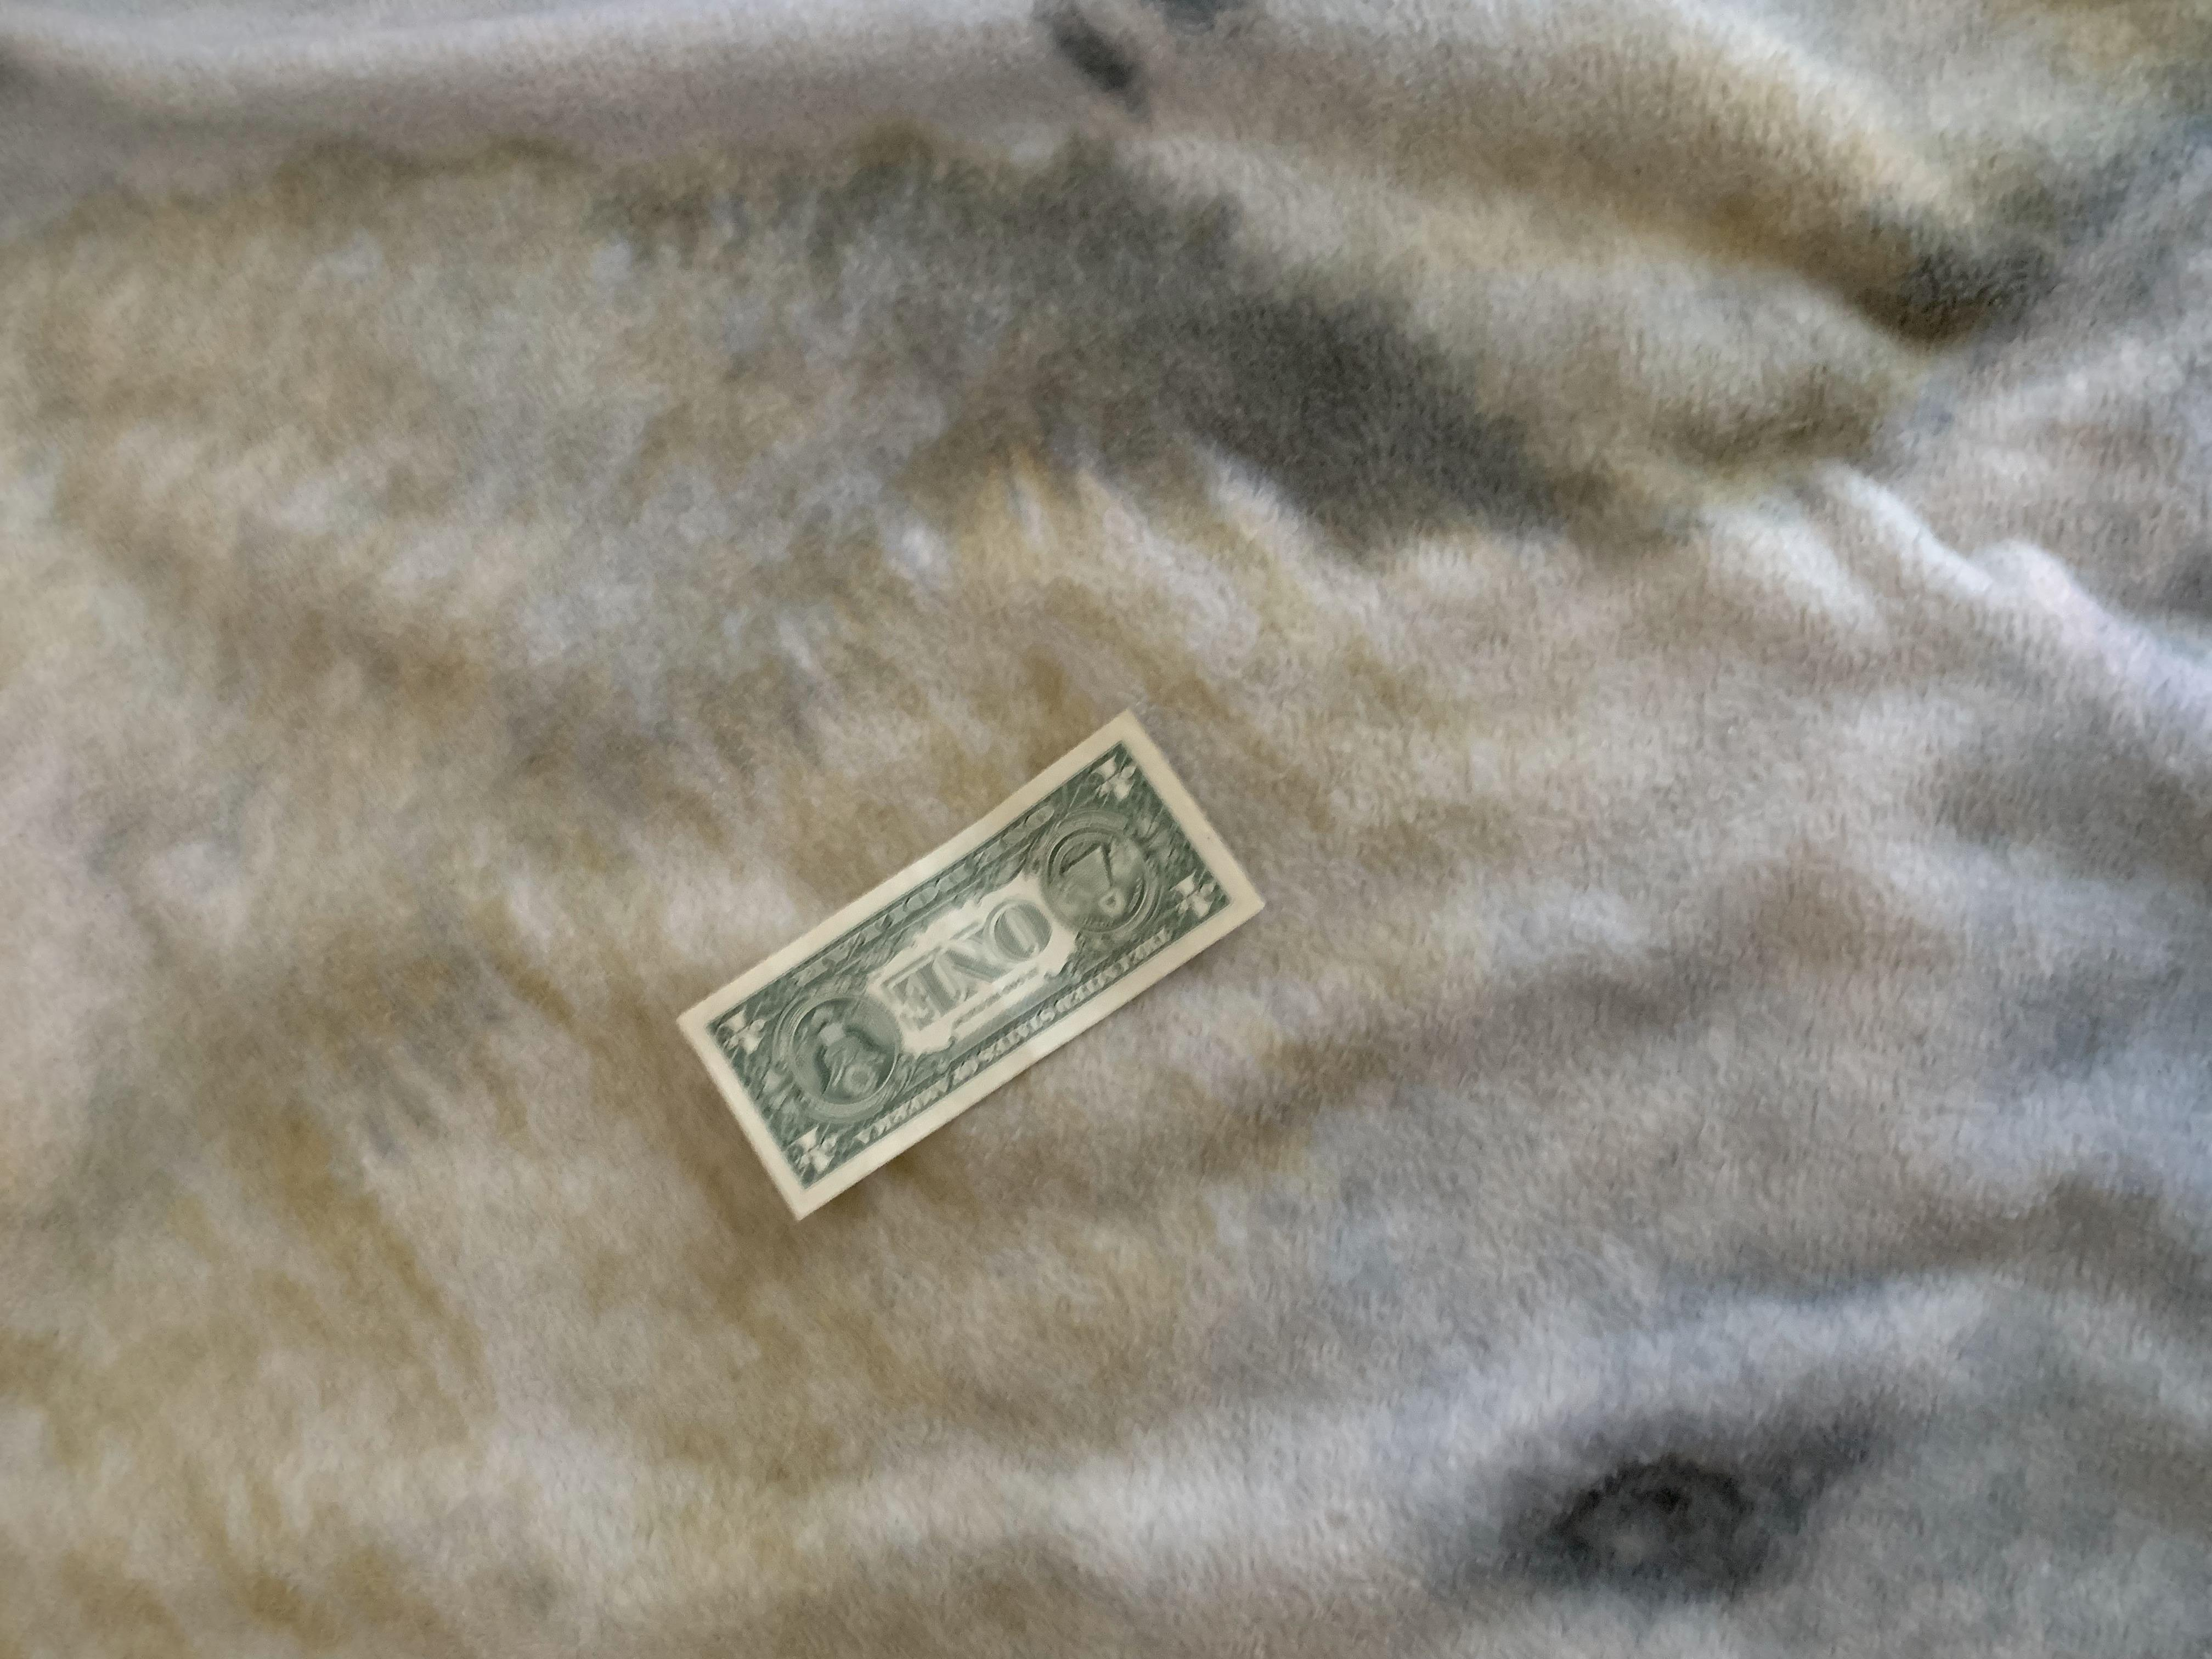OneBill: (672, 702, 1261, 1223)
